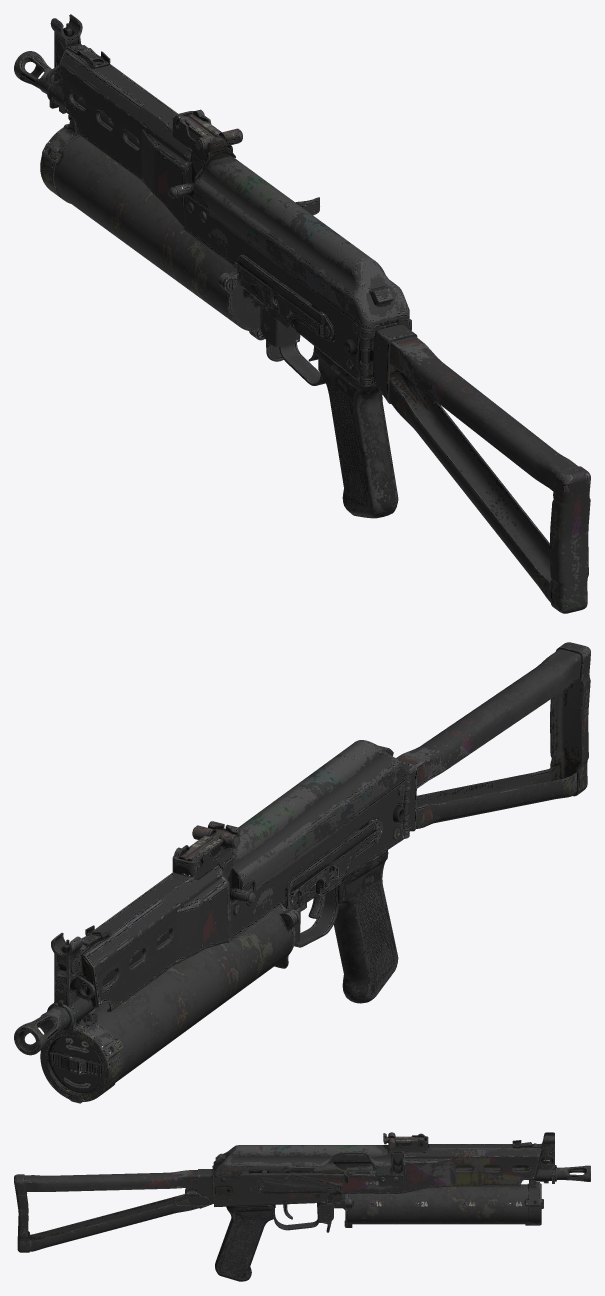
Rendered from bizon_r.glb.
The picture shows the model from 3 angles, top to bottom: view 1: azimuth 30°, elevation 25°; view 2: azimuth 150°, elevation 25°; view 3: azimuth 270°, elevation 25°; orthographic projection. The views are drawn at different scales.
Parts seen in each view (by area): view 1: v_bizon_R; view 2: v_bizon_R; view 3: v_bizon_R.
Part boxes in pixels (<box>): v_bizon_R: <box>14,14,590,613</box>; v_bizon_R: <box>14,642,590,1103</box>; v_bizon_R: <box>14,1132,590,1281</box>.
Size of the model in its own units: 0.0861 by 0.2232 by 0.8008.
1 material, 1 textured.
